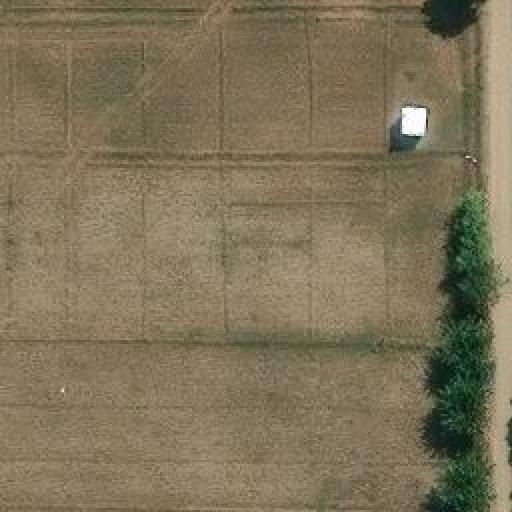manzanas: (399, 103, 431, 144)
